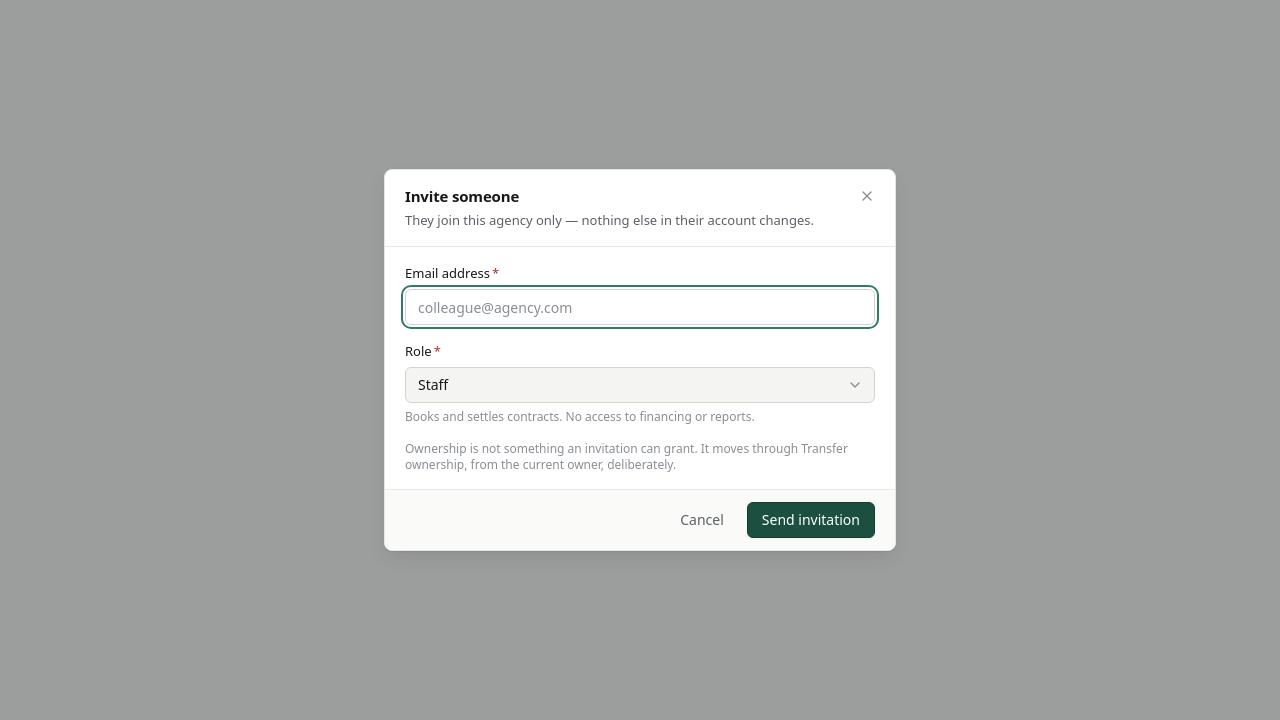
the invite dialog › reports an existing member instead of pretending to invite them
In the field labelled "Email address*": (640, 307) left=405, top=289, right=875, bottom=325, type "colleague@agency.test"
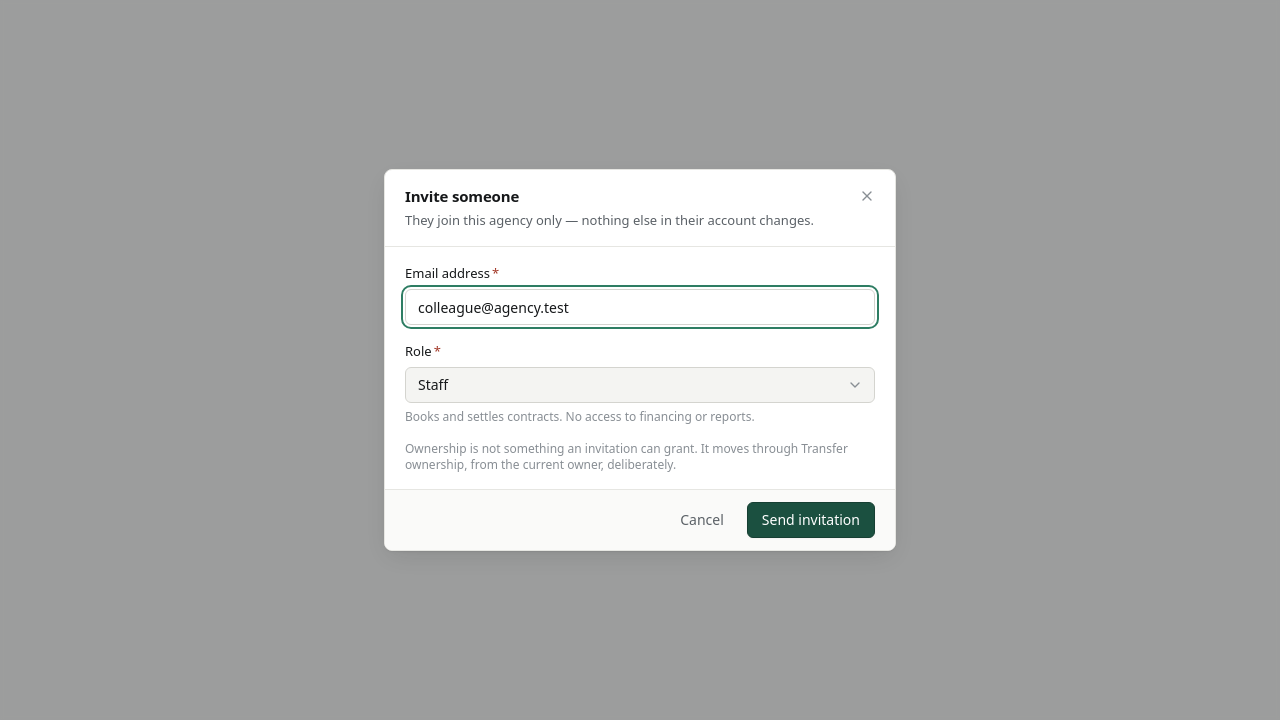
Click the button "Send invitation": click(811, 520) left=747, top=502, right=875, bottom=538
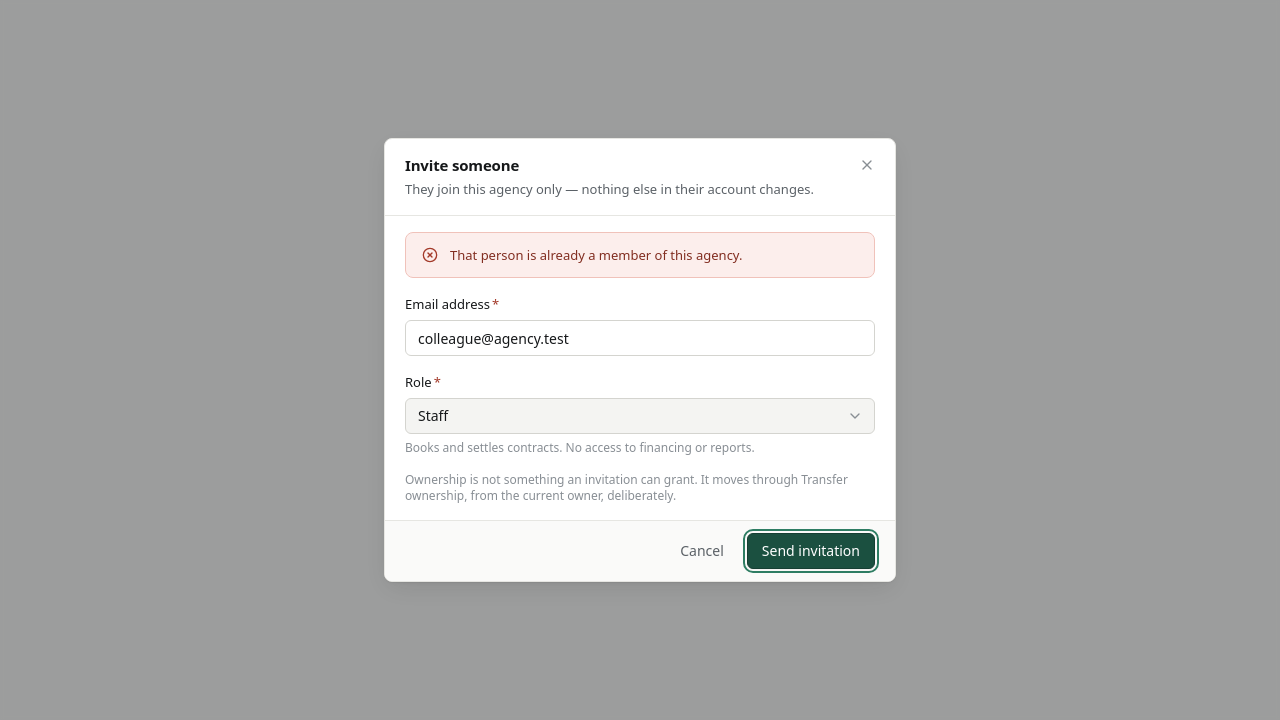
Now the text "That person is already a member of this agency." is shown, box left=450, top=246, right=742, bottom=264
